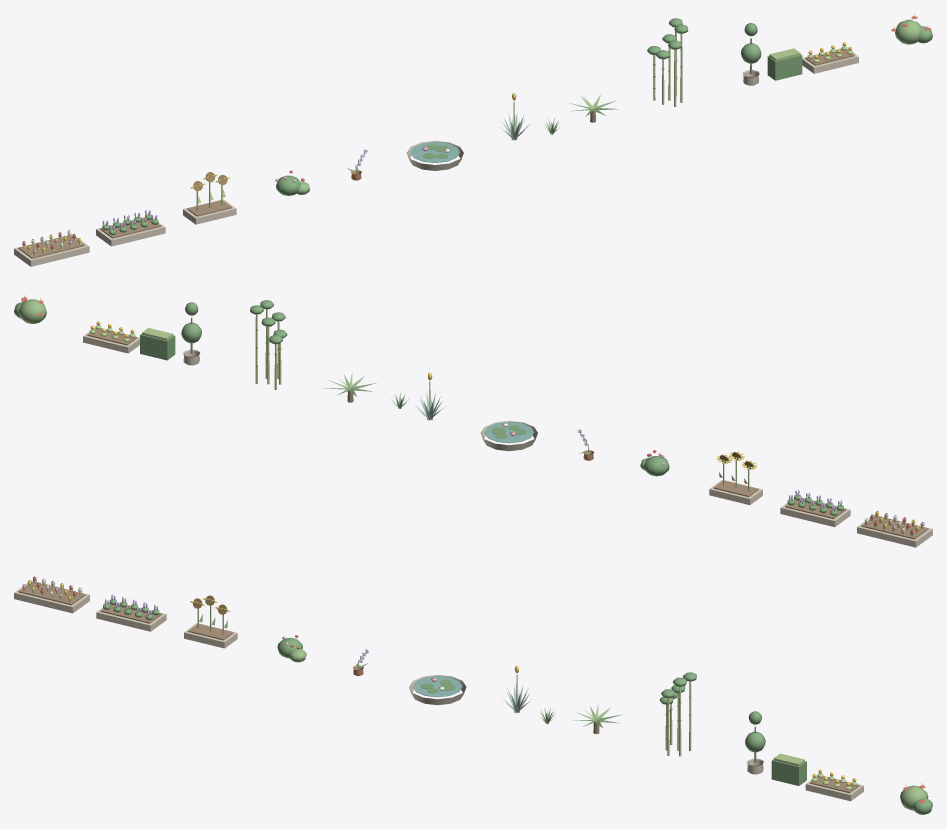
Rendered from kit-39-bunga-dunia.glb.
3 renders of one model, top to bottom at view 1: azimuth 30°, elevation 25°; view 2: azimuth 150°, elevation 25°; view 3: azimuth 330°, elevation 25°, orthographic.
Visible parts, largest first — view 1: Tanaman_Topiary_Eropa, Bunga_Tulip_Belanda, Bunga_Lavender_Prancis, Tanaman_Bambu_Asia, Bunga_Matahari, Bunga_Teratai, Bunga_Marigold_India, Bunga_KembangSepatu_Tropis, Bunga_MawarSemak; view 2: Tanaman_Topiary_Eropa, Bunga_Tulip_Belanda, Bunga_Lavender_Prancis, Tanaman_Bambu_Asia, Bunga_Matahari, Bunga_Teratai, Bunga_Marigold_India, Bunga_KembangSepatu_Tropis; view 3: Tanaman_Topiary_Eropa, Bunga_Tulip_Belanda, Bunga_Lavender_Prancis, Bunga_Matahari, Tanaman_Bambu_Asia, Bunga_Teratai, Bunga_Marigold_India, Bunga_KembangSepatu_Tropis, Bunga_MawarSemak, Tanaman_AgaveAloe_Gurun.
Part boxes in pixels (bbox=[...]): Tanaman_Topiary_Eropa: bbox=[741, 23, 802, 85]; Bunga_Tulip_Belanda: bbox=[14, 229, 89, 266]; Bunga_Lavender_Prancis: bbox=[96, 210, 165, 246]; Tanaman_Bambu_Asia: bbox=[647, 18, 688, 106]; Bunga_Matahari: bbox=[183, 172, 236, 224]; Bunga_Teratai: bbox=[407, 141, 463, 170]; Bunga_Marigold_India: bbox=[802, 42, 858, 73]; Bunga_KembangSepatu_Tropis: bbox=[891, 14, 932, 44]; Bunga_MawarSemak: bbox=[275, 170, 309, 195]; Tanaman_Topiary_Eropa: bbox=[140, 302, 201, 365]; Bunga_Tulip_Belanda: bbox=[857, 510, 932, 547]; Bunga_Lavender_Prancis: bbox=[780, 490, 850, 527]; Tanaman_Bambu_Asia: bbox=[250, 300, 287, 389]; Bunga_Matahari: bbox=[709, 451, 762, 505]; Bunga_Teratai: bbox=[480, 421, 537, 451]; Bunga_Marigold_India: bbox=[83, 321, 139, 353]; Bunga_KembangSepatu_Tropis: bbox=[14, 295, 46, 323]; Tanaman_Topiary_Eropa: bbox=[745, 711, 806, 785]; Bunga_Tulip_Belanda: bbox=[14, 576, 89, 613]; Bunga_Lavender_Prancis: bbox=[96, 594, 166, 631]; Bunga_Matahari: bbox=[184, 595, 237, 648]; Tanaman_Bambu_Asia: bbox=[659, 672, 696, 756]; Bunga_Teratai: bbox=[409, 675, 466, 705]; Bunga_Marigold_India: bbox=[805, 769, 863, 801]; Bunga_KembangSepatu_Tropis: bbox=[900, 783, 932, 814]; Bunga_MawarSemak: bbox=[277, 635, 306, 662]; Tanaman_AgaveAloe_Gurun: bbox=[501, 665, 554, 723].
Bounding box in the file's own units: 40.2 × 3.26 × 2.2.
